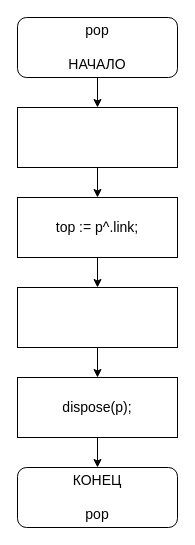
Image size: 195x545. Some labels were removed from this diagram. Each missing label, with the box of its shape:
p := top;: (16, 106, 178, 168)
p^.link := NIL;: (16, 286, 178, 348)
